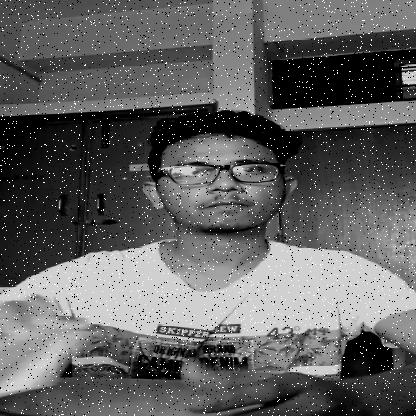Normal: (145, 142, 292, 245)
